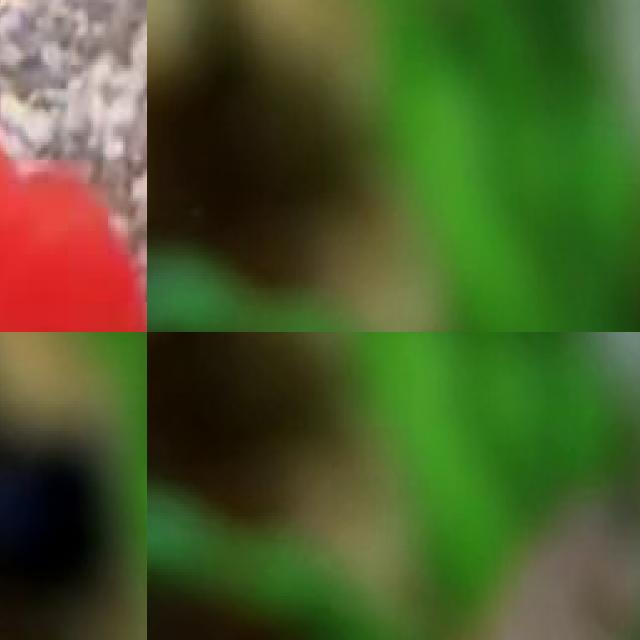fish: (0, 0, 147, 332)
